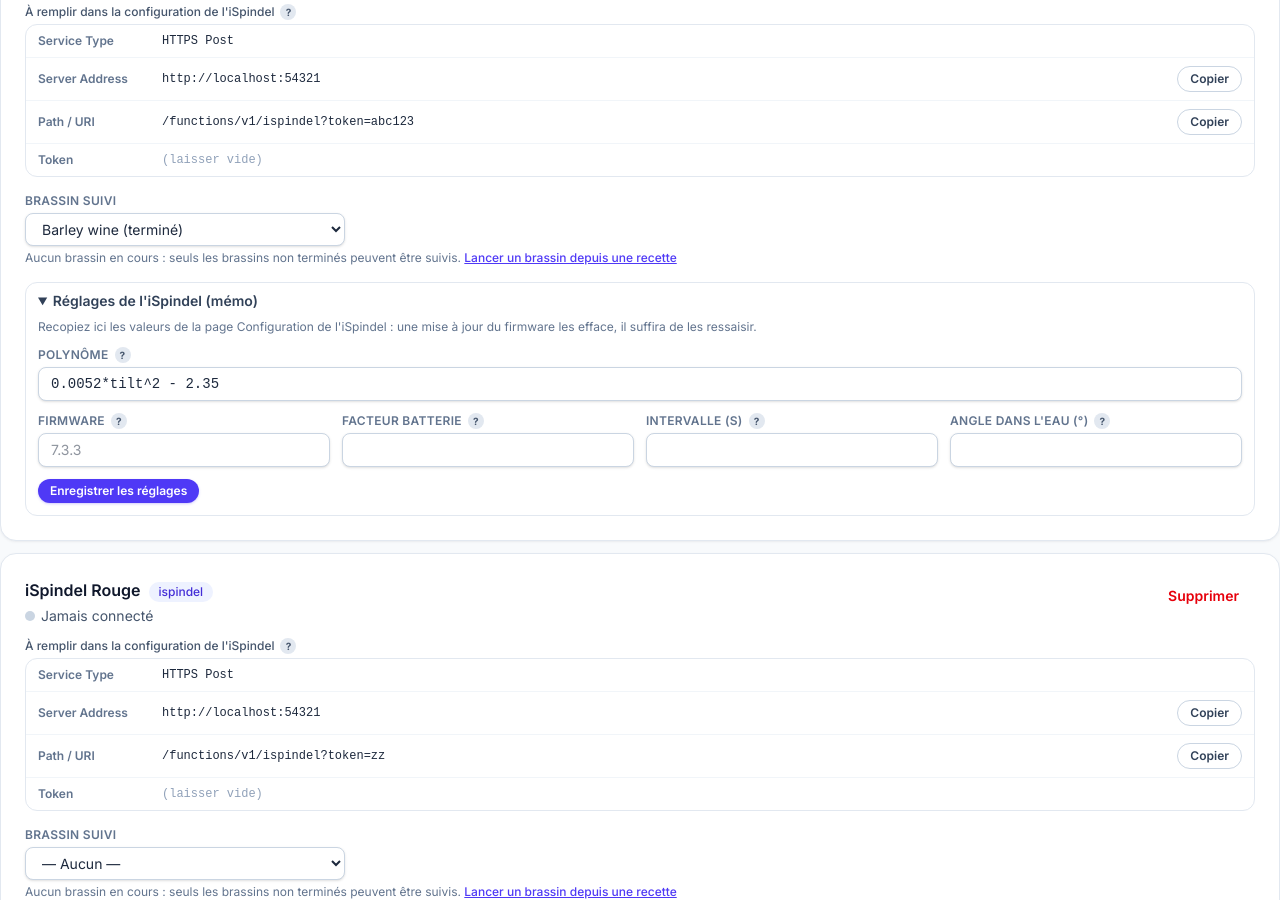
Scenario: Appareils › affiche les champs de l’iSpindel et enregistre ses réglages
This screenshot has width=1280, height=900.
(page scrolled)
Expected: the text "/functions/v1/ispindel?token=abc123" is shown, [162,115,414,129]
Expected: the text "HTTPS Post" is shown 2 times, [162,34,234,48]; [162,668,234,682]
In the field named "Facteur batterie": coordinates (488, 450) [342,433,634,467], type "191,80"
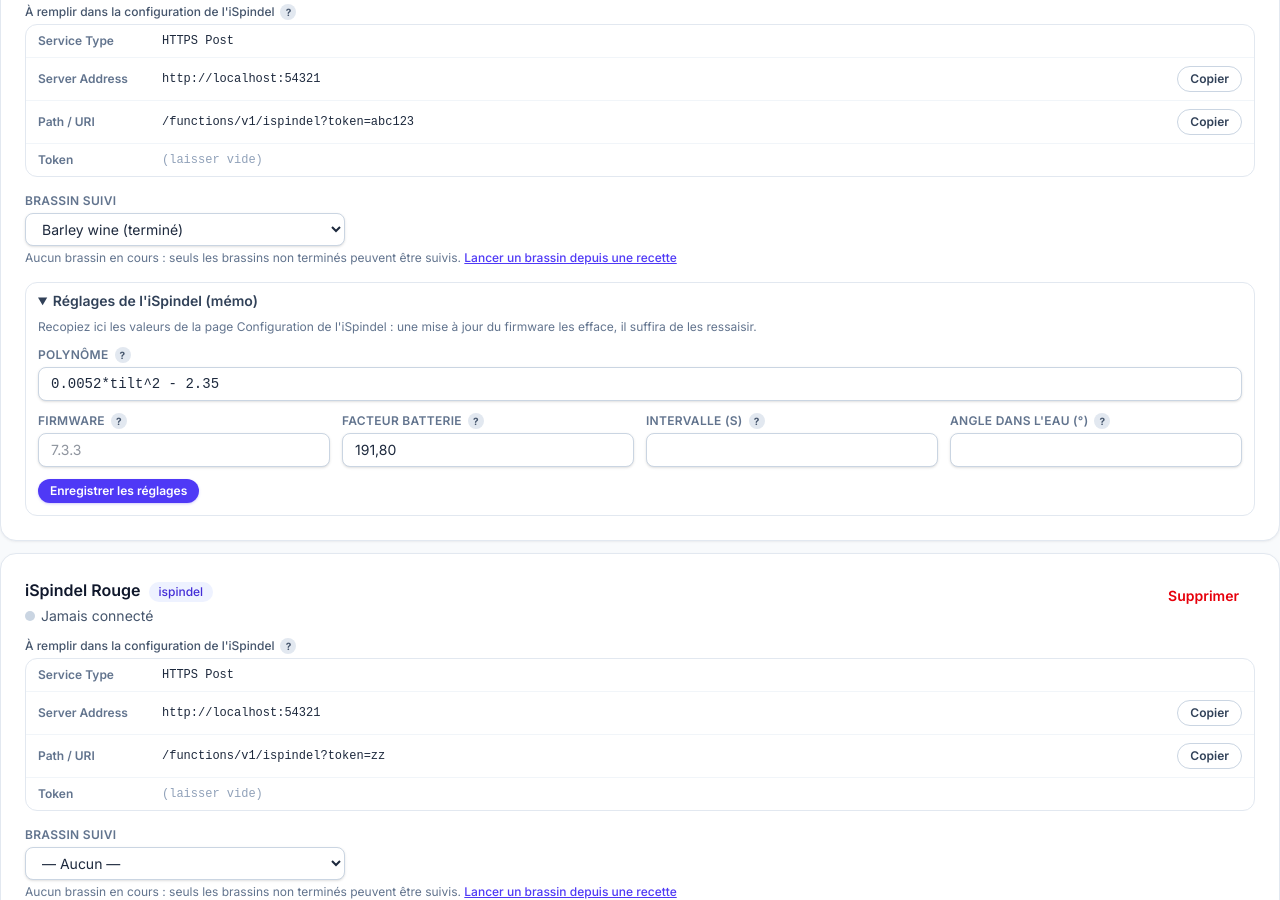
Click the button "Enregistrer les réglages": coordinates (119, 491) [38,479,199,503]
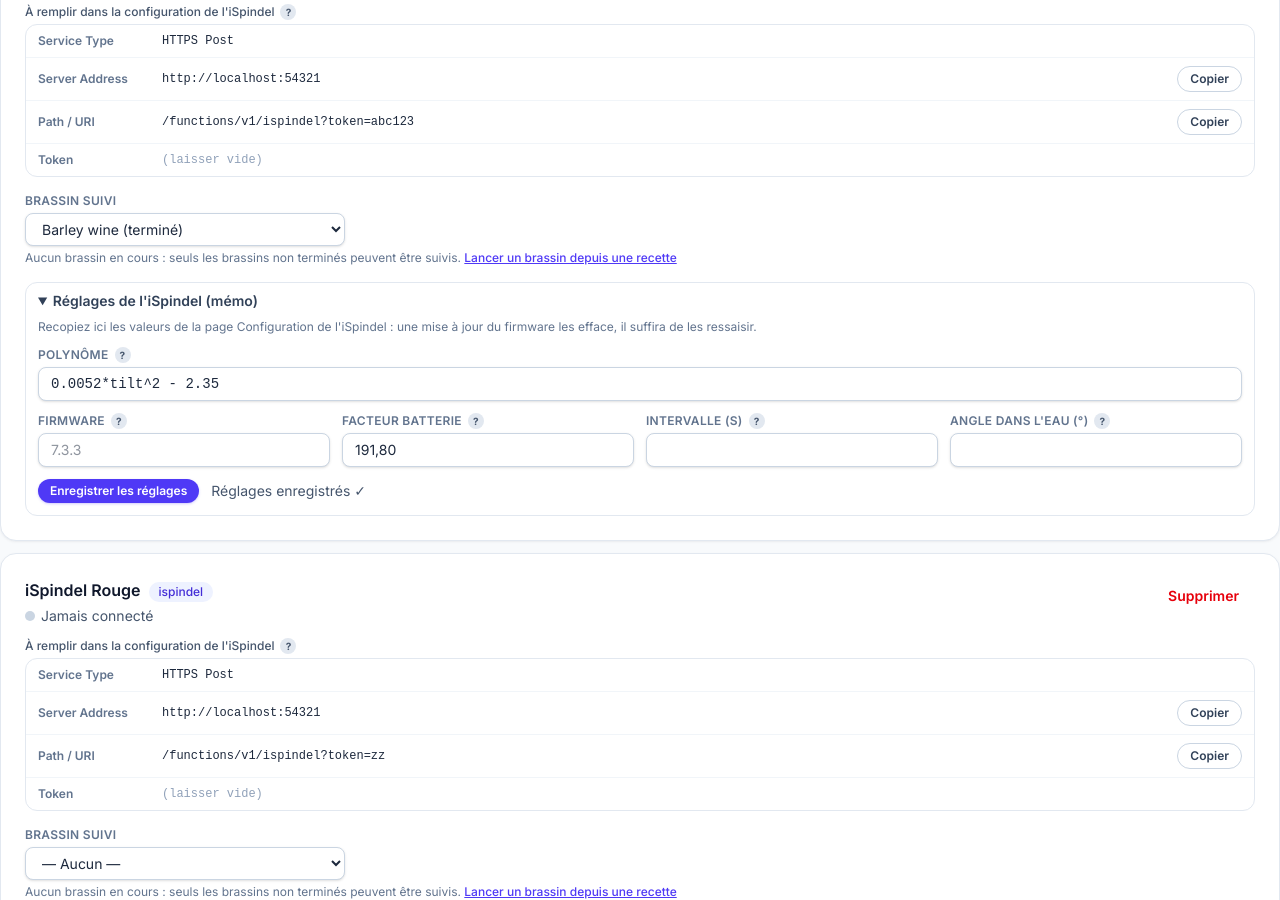
Expected: the text "Réglages enregistrés ✓" is shown, [211,481,366,501]
